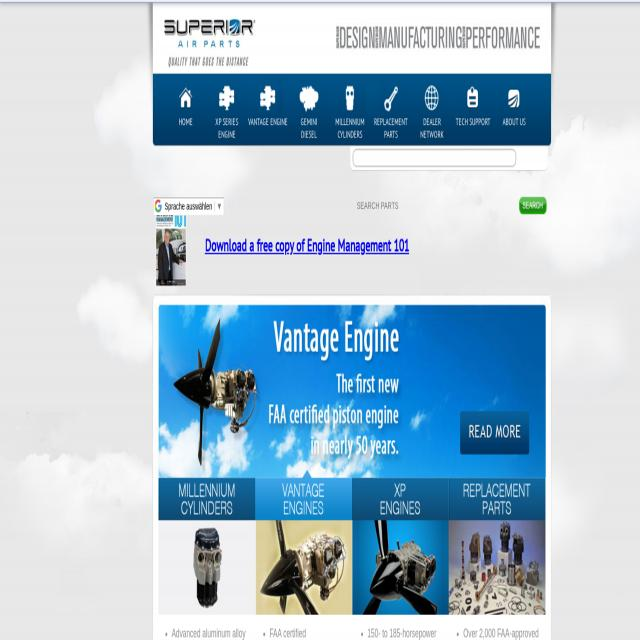button: (337, 0, 539, 338), (164, 17, 256, 64), (364, 478, 436, 516), (268, 478, 339, 516), (172, 478, 242, 516), (462, 478, 532, 516), (156, 199, 186, 283), (154, 197, 162, 210)
field: (357, 196, 511, 210), (520, 194, 546, 212)
